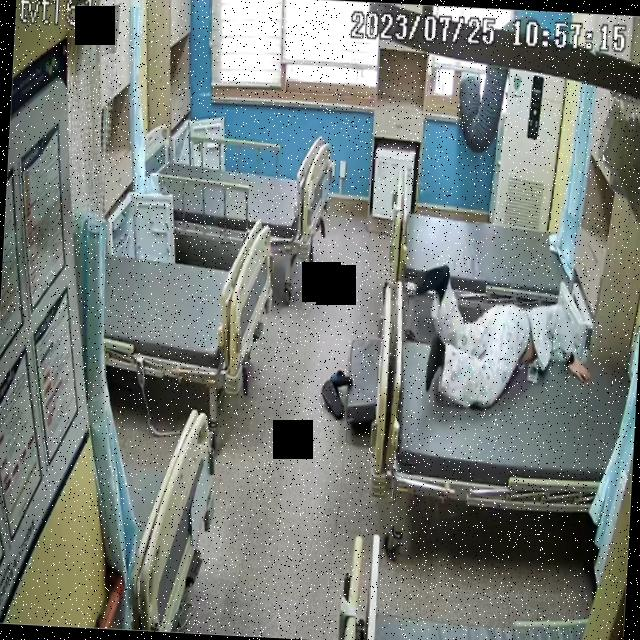bed: (368, 278, 631, 514), (388, 158, 581, 324), (103, 216, 275, 390), (156, 134, 330, 258)
danger: (406, 266, 594, 424)
patient: (406, 266, 594, 420)
